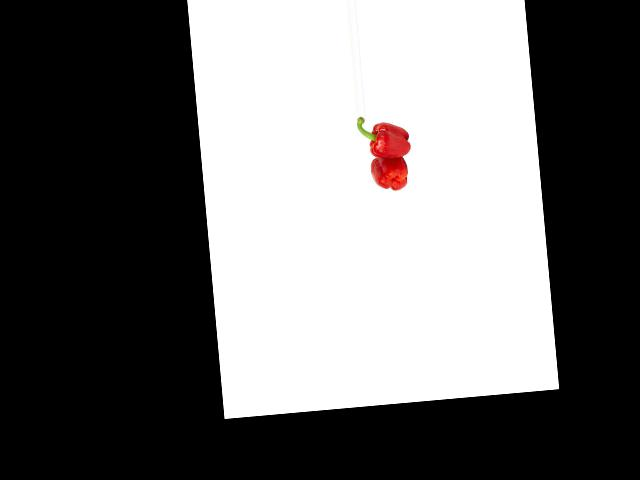bell_pepper: (367, 154, 411, 192)
